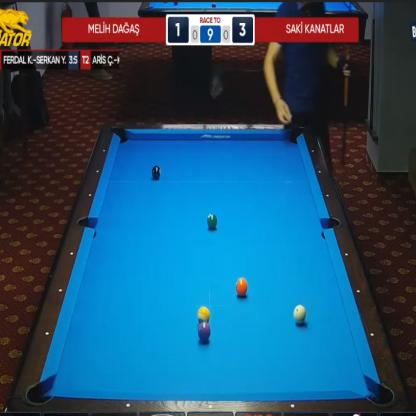Ball: (293, 304, 306, 324), (198, 322, 211, 342), (236, 278, 248, 296), (197, 307, 210, 322), (207, 214, 217, 229), (152, 166, 161, 179)
